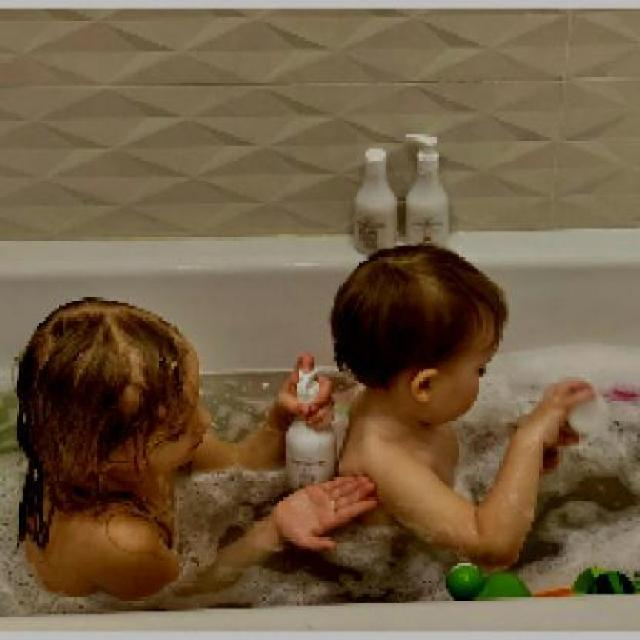child: (16, 297, 378, 600), (328, 244, 601, 570)
